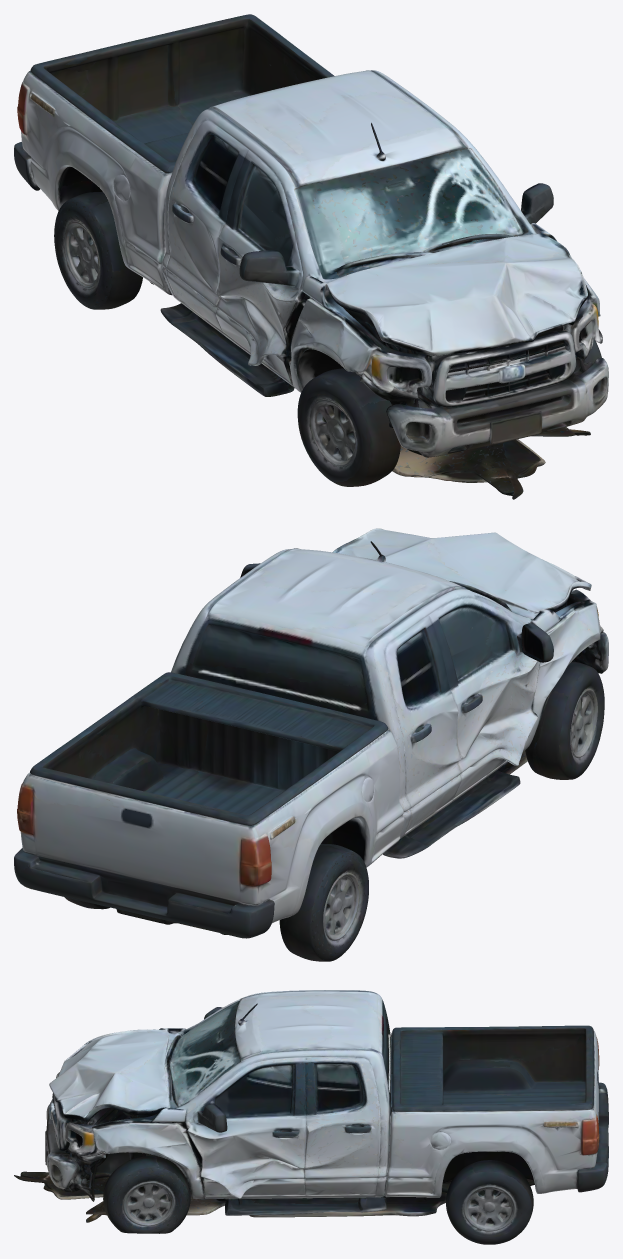
Rendered from crashed_pickup_truck_ae555020_v1.glb.
3 views of the same model, one above another, from view 1: azimuth 30°, elevation 25°; view 2: azimuth 150°, elevation 25°; view 3: azimuth 270°, elevation 25° (orthographic). The views are drawn at different scales.
Parts seen in each view (by area): view 1: material; view 2: material; view 3: material.
Boxes of the visible parts, <box> form: material: <box>14,14,608,499</box>; material: <box>14,528,608,961</box>; material: <box>14,990,608,1244</box>.
Size of the model in its own units: 0.5027 by 0.4217 by 1.15.
1 material, 1 textured.
